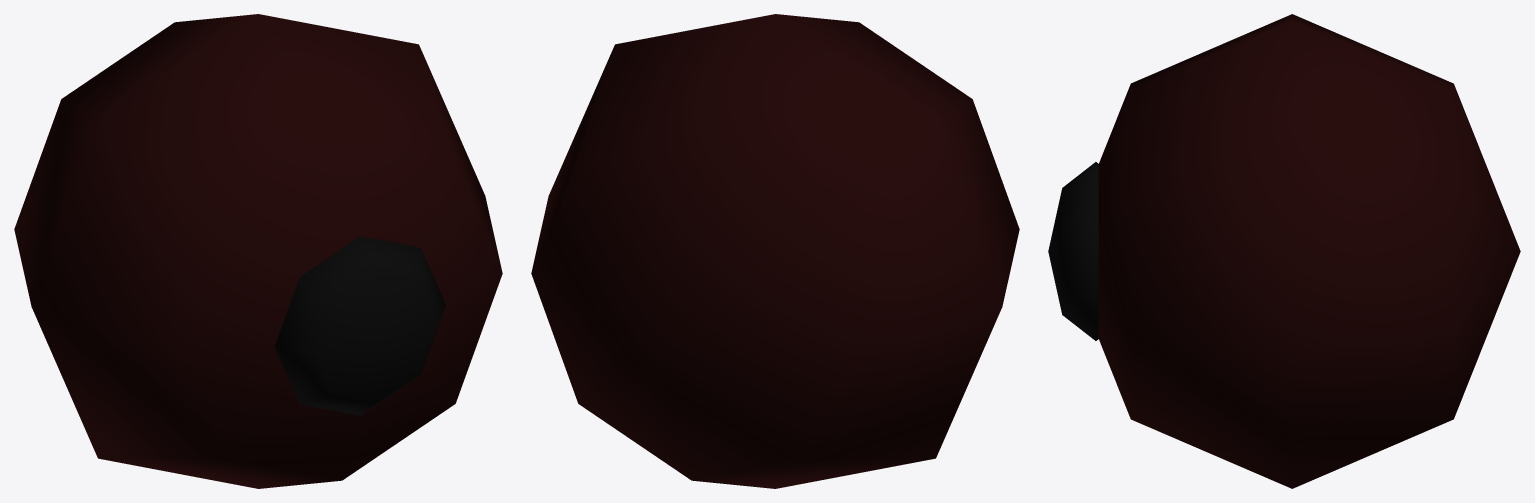
File: powerUp_currency.FBX
3 views of the same model, side by side, from view 1: azimuth 30°, elevation 25°; view 2: azimuth 150°, elevation 25°; view 3: azimuth 270°, elevation 25° (orthographic). The views are drawn at different scales.
Visible parts, largest first — view 1: pupil; view 2: pupil; view 3: pupil.
Boxes of the visible parts, box(x1,y1,x2,y2) form: pupil: box(14, 14, 502, 488); pupil: box(531, 14, 1019, 488); pupil: box(1048, 14, 1520, 488).
Size of the model in its own units: 11.9 by 11.9 by 11.13.
